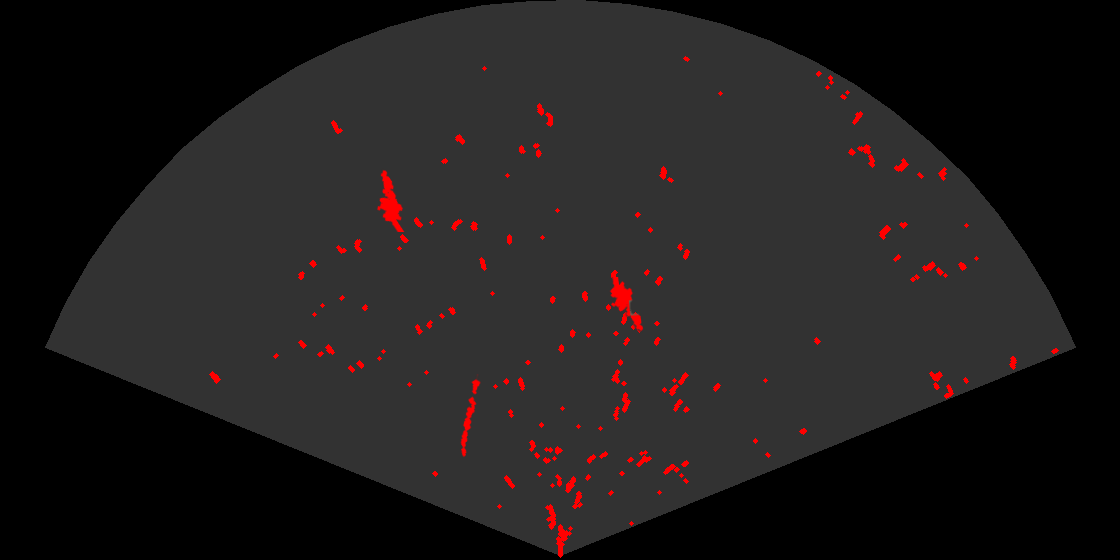chain: (459, 374, 482, 458)
frogman: (608, 277, 645, 333), (375, 168, 406, 232)
